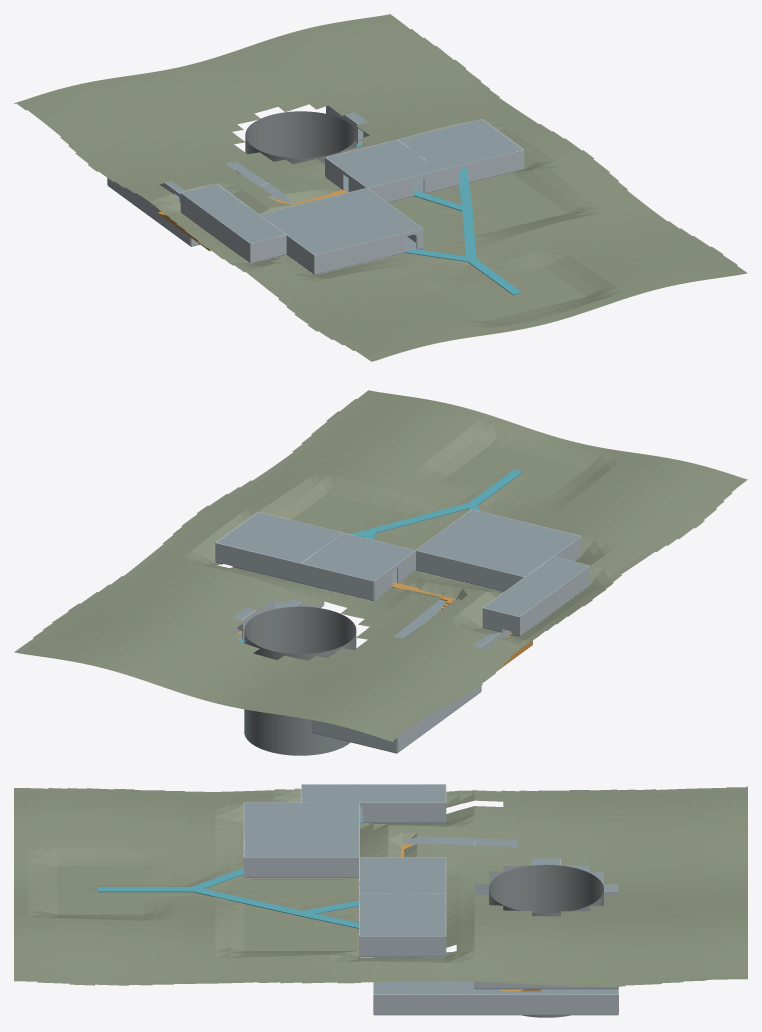
Rendered from supported-arrival.glb.
3 renders of one model, top to bottom at view 1: azimuth 30°, elevation 25°; view 2: azimuth 150°, elevation 25°; view 3: azimuth 270°, elevation 25°, orthographic. The views are drawn at different scales.
Parts seen in each view (by area): view 1: Saved editor terrain WLD-18, Ceiling cap servicehouse, EMPTY SHAFT / guard engineering pending, Ceiling cap shop, Ceiling cap head, Ceiling cap exit, Flat route shell Wall servicehouse S, Wall exit W, Flat route shell Wall shop S.001, Flat route shell Wall head S, Wall exit S, Wall servicehouse W.001; view 2: Saved editor terrain WLD-18, EMPTY SHAFT / guard engineering pending, Ceiling cap servicehouse, Ceiling cap shop, Ceiling cap head, Ceiling cap exit, Flat route shell Wall servicehouse N, Wall shop N, Wall head N, Wall exit W, Wall pump N, Opened stair shell Wall exit N (+2 smaller); view 3: Saved editor terrain WLD-18, Ceiling cap servicehouse, EMPTY SHAFT / guard engineering pending, Ceiling cap shop, Ceiling cap head, Wall east E, Ceiling cap exit, Wall servicehouse E, Wall plant E, Wall shop E, Flat route shell Wall exit E, Ceiling cap plant (+4 smaller).
Part boxes in pixels (x1,y1,x2,y2): Saved editor terrain WLD-18: (14, 14, 747, 361); Ceiling cap servicehouse: (259, 188, 422, 254); EMPTY SHAFT / guard engineering pending: (245, 111, 356, 256); Ceiling cap shop: (399, 119, 522, 170); Ceiling cap head: (326, 140, 438, 187); Ceiling cap exit: (181, 184, 285, 243); Flat route shell Wall servicehouse S: (314, 233, 406, 273); Wall exit W: (180, 193, 250, 262); Flat route shell Wall shop S.001: (468, 149, 524, 182); Flat route shell Wall head S: (368, 176, 414, 201); Wall exit S: (250, 234, 286, 262); Wall servicehouse W.001: (264, 218, 314, 273); Saved editor terrain WLD-18: (14, 390, 747, 742); EMPTY SHAFT / guard engineering pending: (244, 606, 356, 755); Ceiling cap servicehouse: (416, 509, 580, 576); Ceiling cap shop: (217, 512, 341, 563); Ceiling cap head: (302, 533, 415, 581); Ceiling cap exit: (483, 557, 589, 616); Flat route shell Wall servicehouse N: (416, 550, 523, 591); Wall shop N: (215, 542, 300, 582); Wall head N: (300, 563, 373, 600); Wall exit W: (519, 565, 589, 635); Wall pump N: (311, 720, 396, 752); Opened stair shell Wall exit N: (482, 608, 519, 635); Saved editor terrain WLD-18: (14, 786, 747, 986); Ceiling cap servicehouse: (244, 802, 359, 857); EMPTY SHAFT / guard engineering pending: (489, 864, 603, 1017); Ceiling cap shop: (359, 894, 445, 936); Ceiling cap head: (359, 857, 445, 893); Wall east E: (474, 994, 618, 1014); Ceiling cap exit: (302, 784, 445, 802); Wall servicehouse E: (244, 857, 358, 877); Wall plant E: (373, 994, 474, 1014); Wall shop E: (359, 936, 445, 956); Flat route shell Wall exit E: (361, 802, 445, 822); Ceiling cap plant: (373, 952, 474, 994).
Size of the model in its own units: 64 by 19 by 102.
